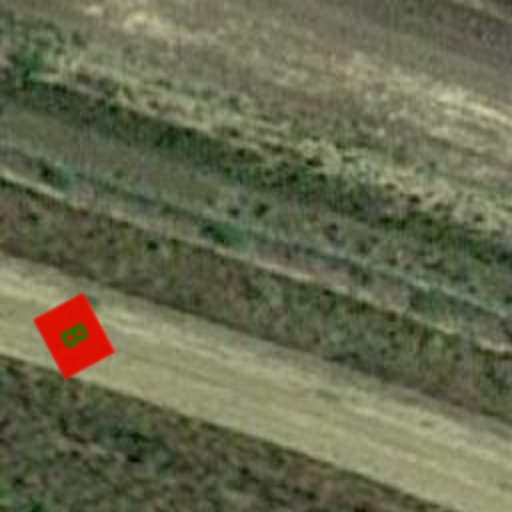rectangle: (26, 288, 122, 384)
